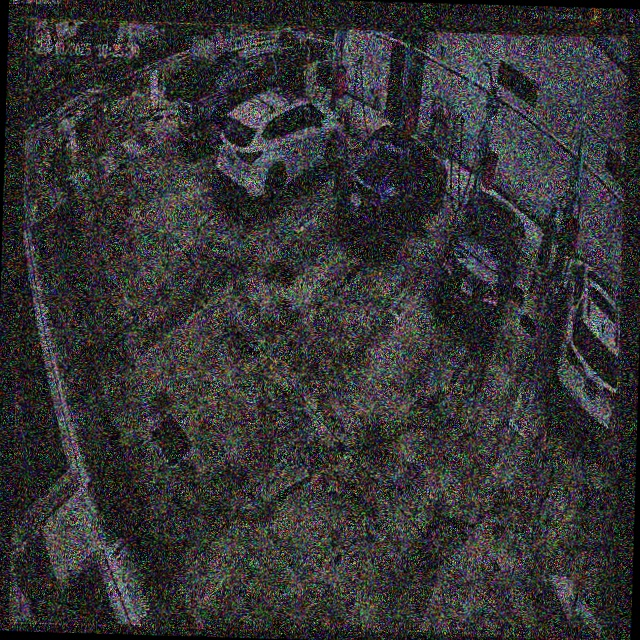Car: (335, 125, 448, 257), (216, 94, 349, 205), (437, 191, 526, 335)
